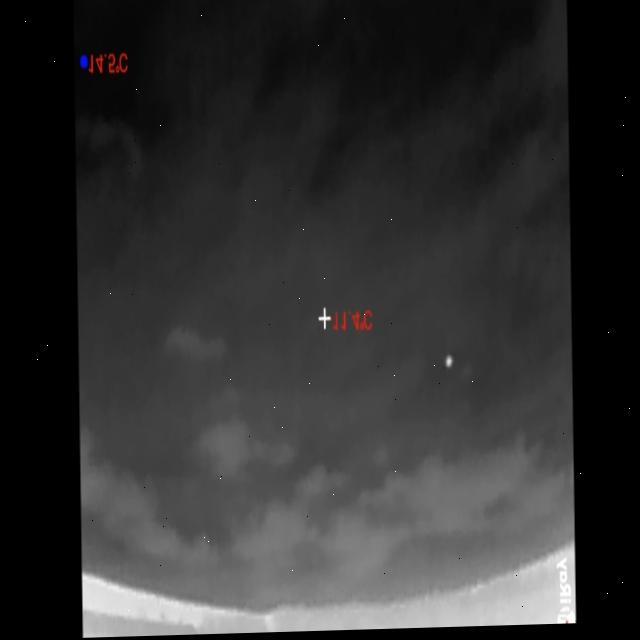drone: (443, 353, 451, 375)
